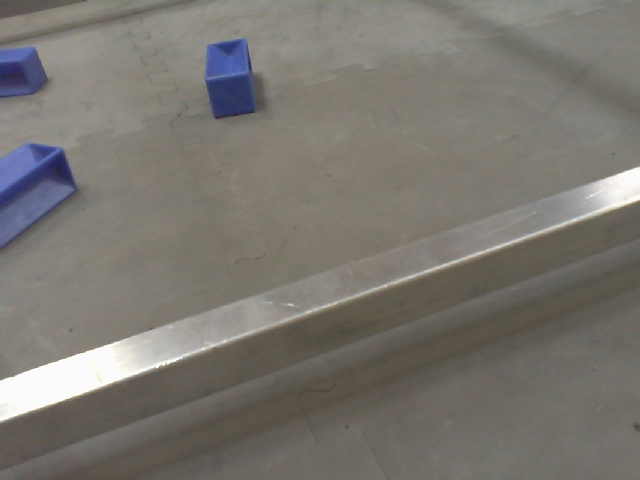BlueSample: (1, 136, 80, 244), (200, 34, 259, 119), (1, 44, 60, 98)
